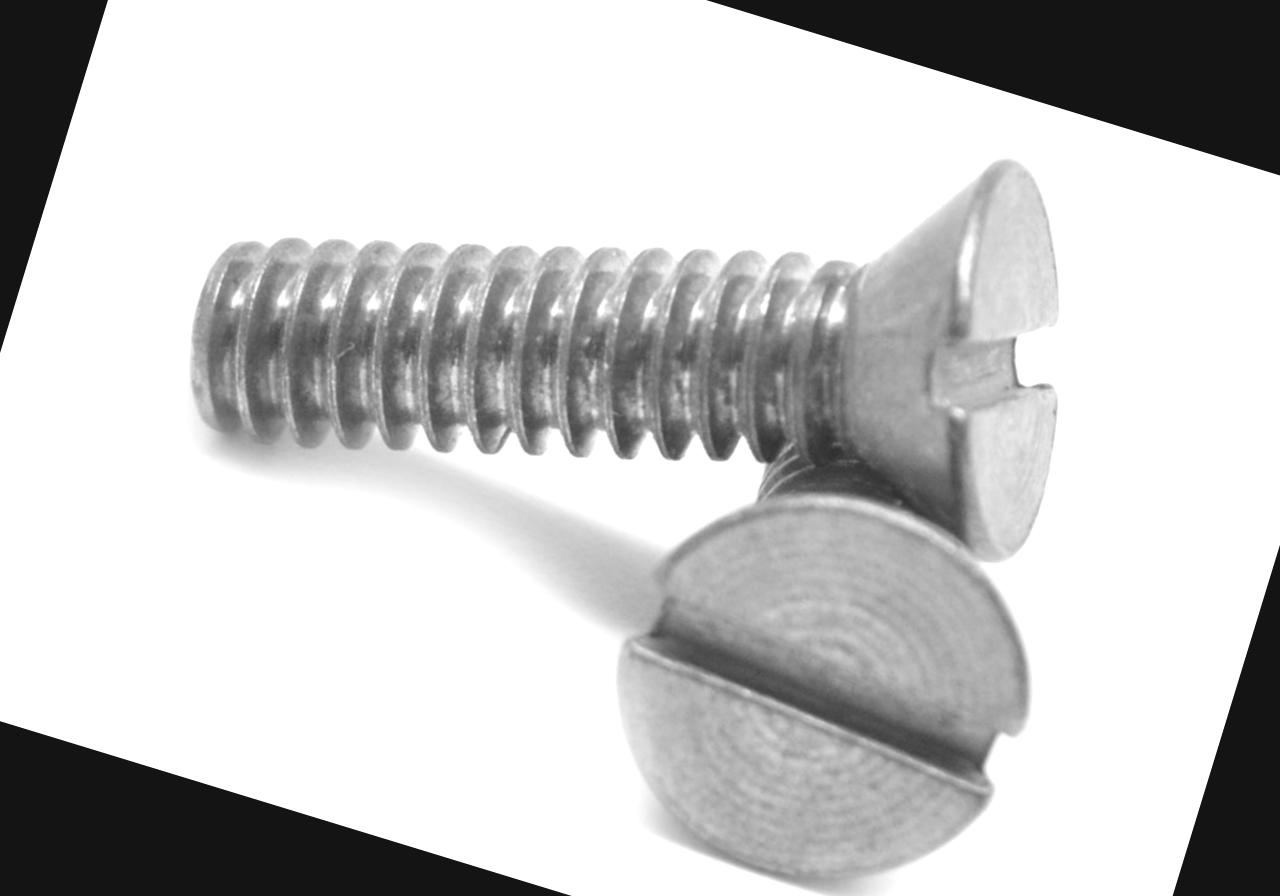screw: (572, 437, 1071, 896)
